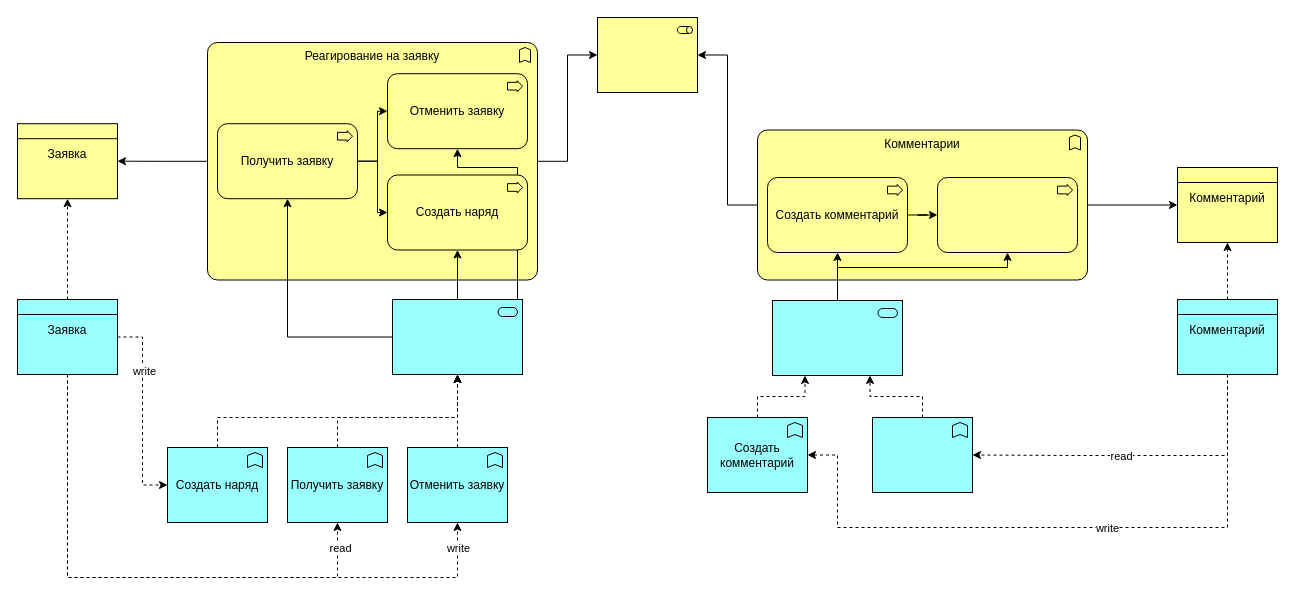
Image size: 1295x603. Some labels were removed from this diagram. Each missing label, with the centre of its shape:
Диспетчер: point 647,54
Отправить комментарий: point 1007,214
Прочитать комментарий: point 922,454
Сервис управления заявками: point 457,336
Сервис управления комментариями: point 837,338
